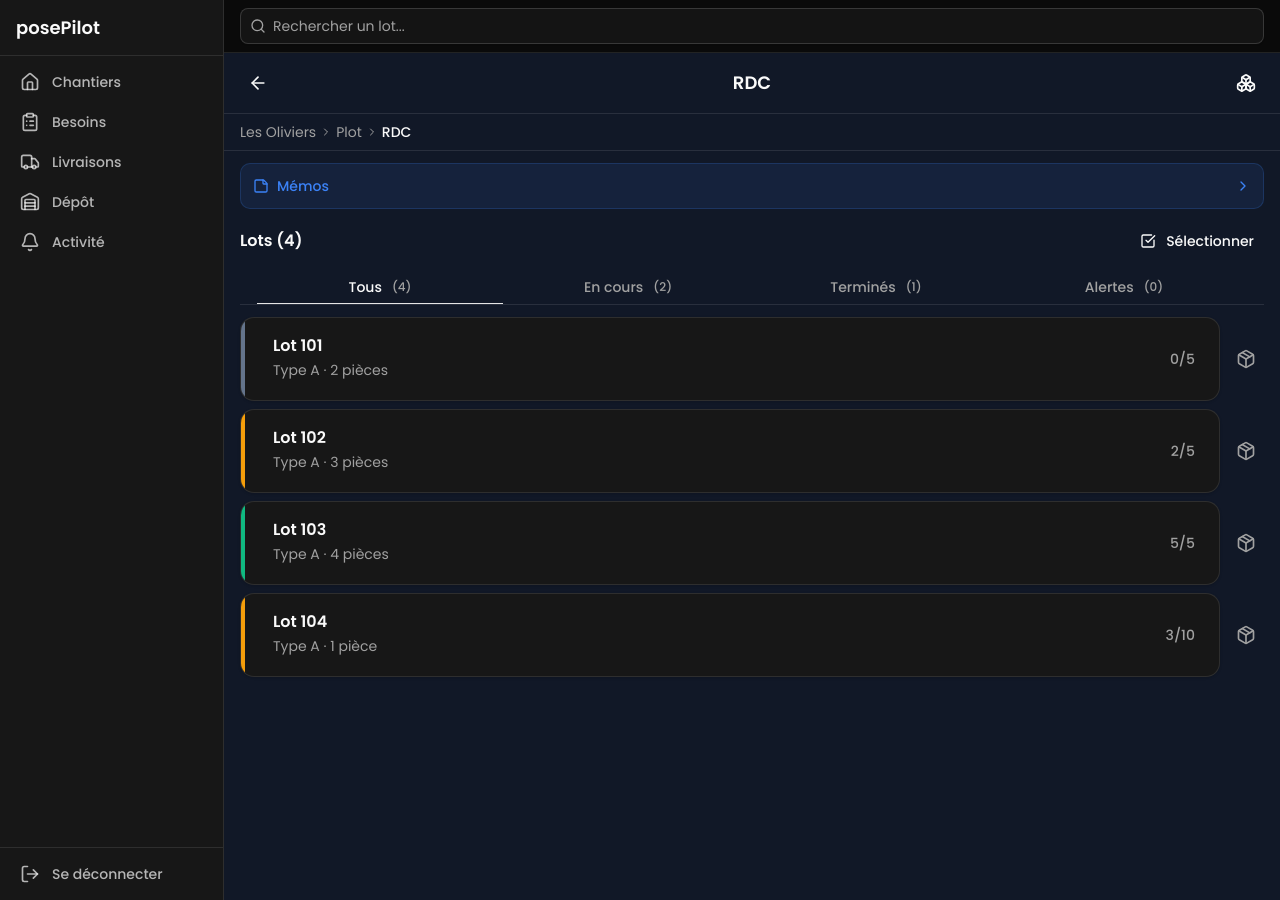
Test case: EtageIndexPage — GridFilterTabs integration › "Alertes" shows no results — no alert data yet (AC #4)
Expected: the element showing "Tous (4) En cours (2) Terminés (1) Alertes (0)" is shown, [240,269,1264,305]
Click the tab "Alertes (0)": [1124, 286] box [1000,272,1248,300]
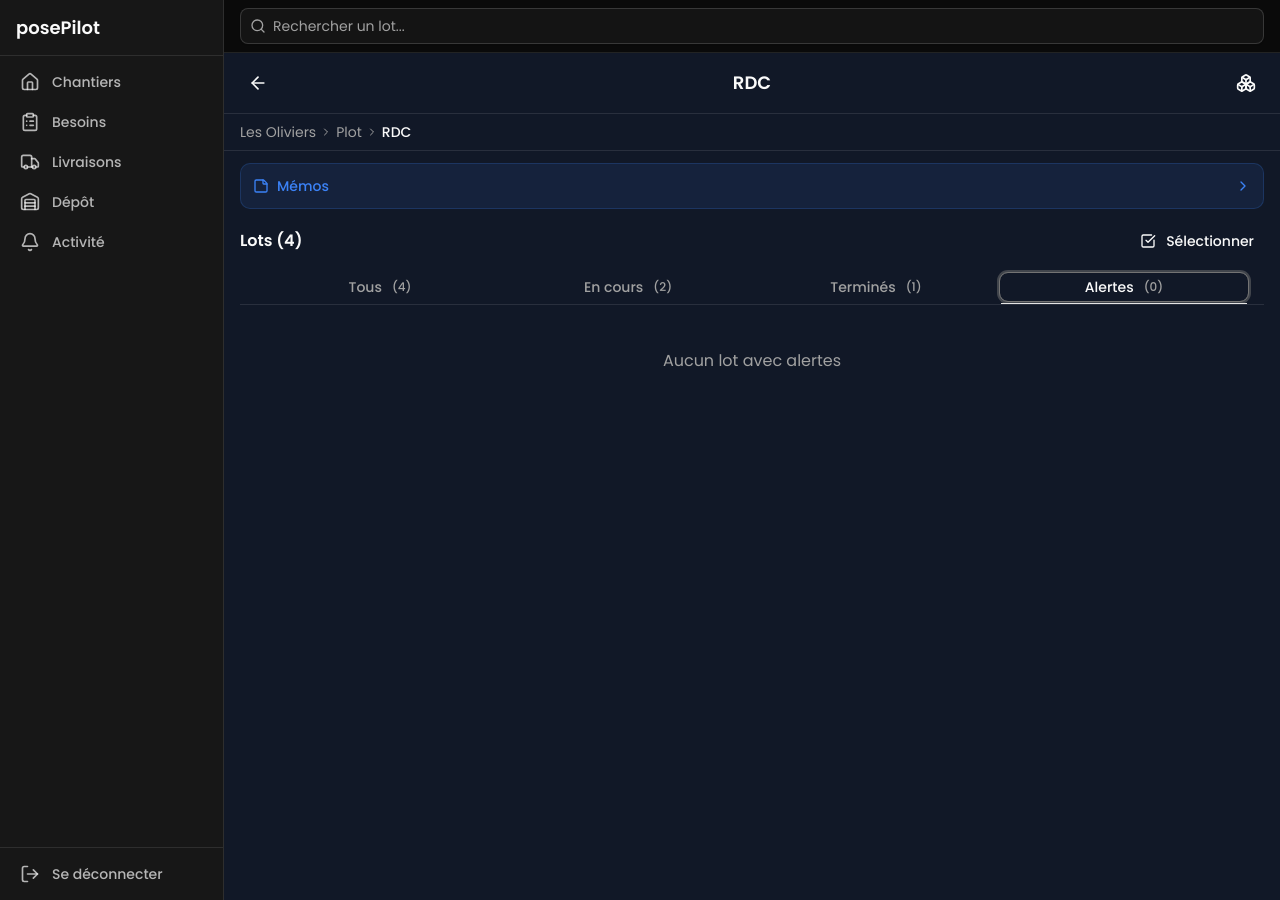
Expected: the text "Lot 101" is gone
Expected: the text "Lot 102" is gone
Expected: the text "Lot 103" is gone
